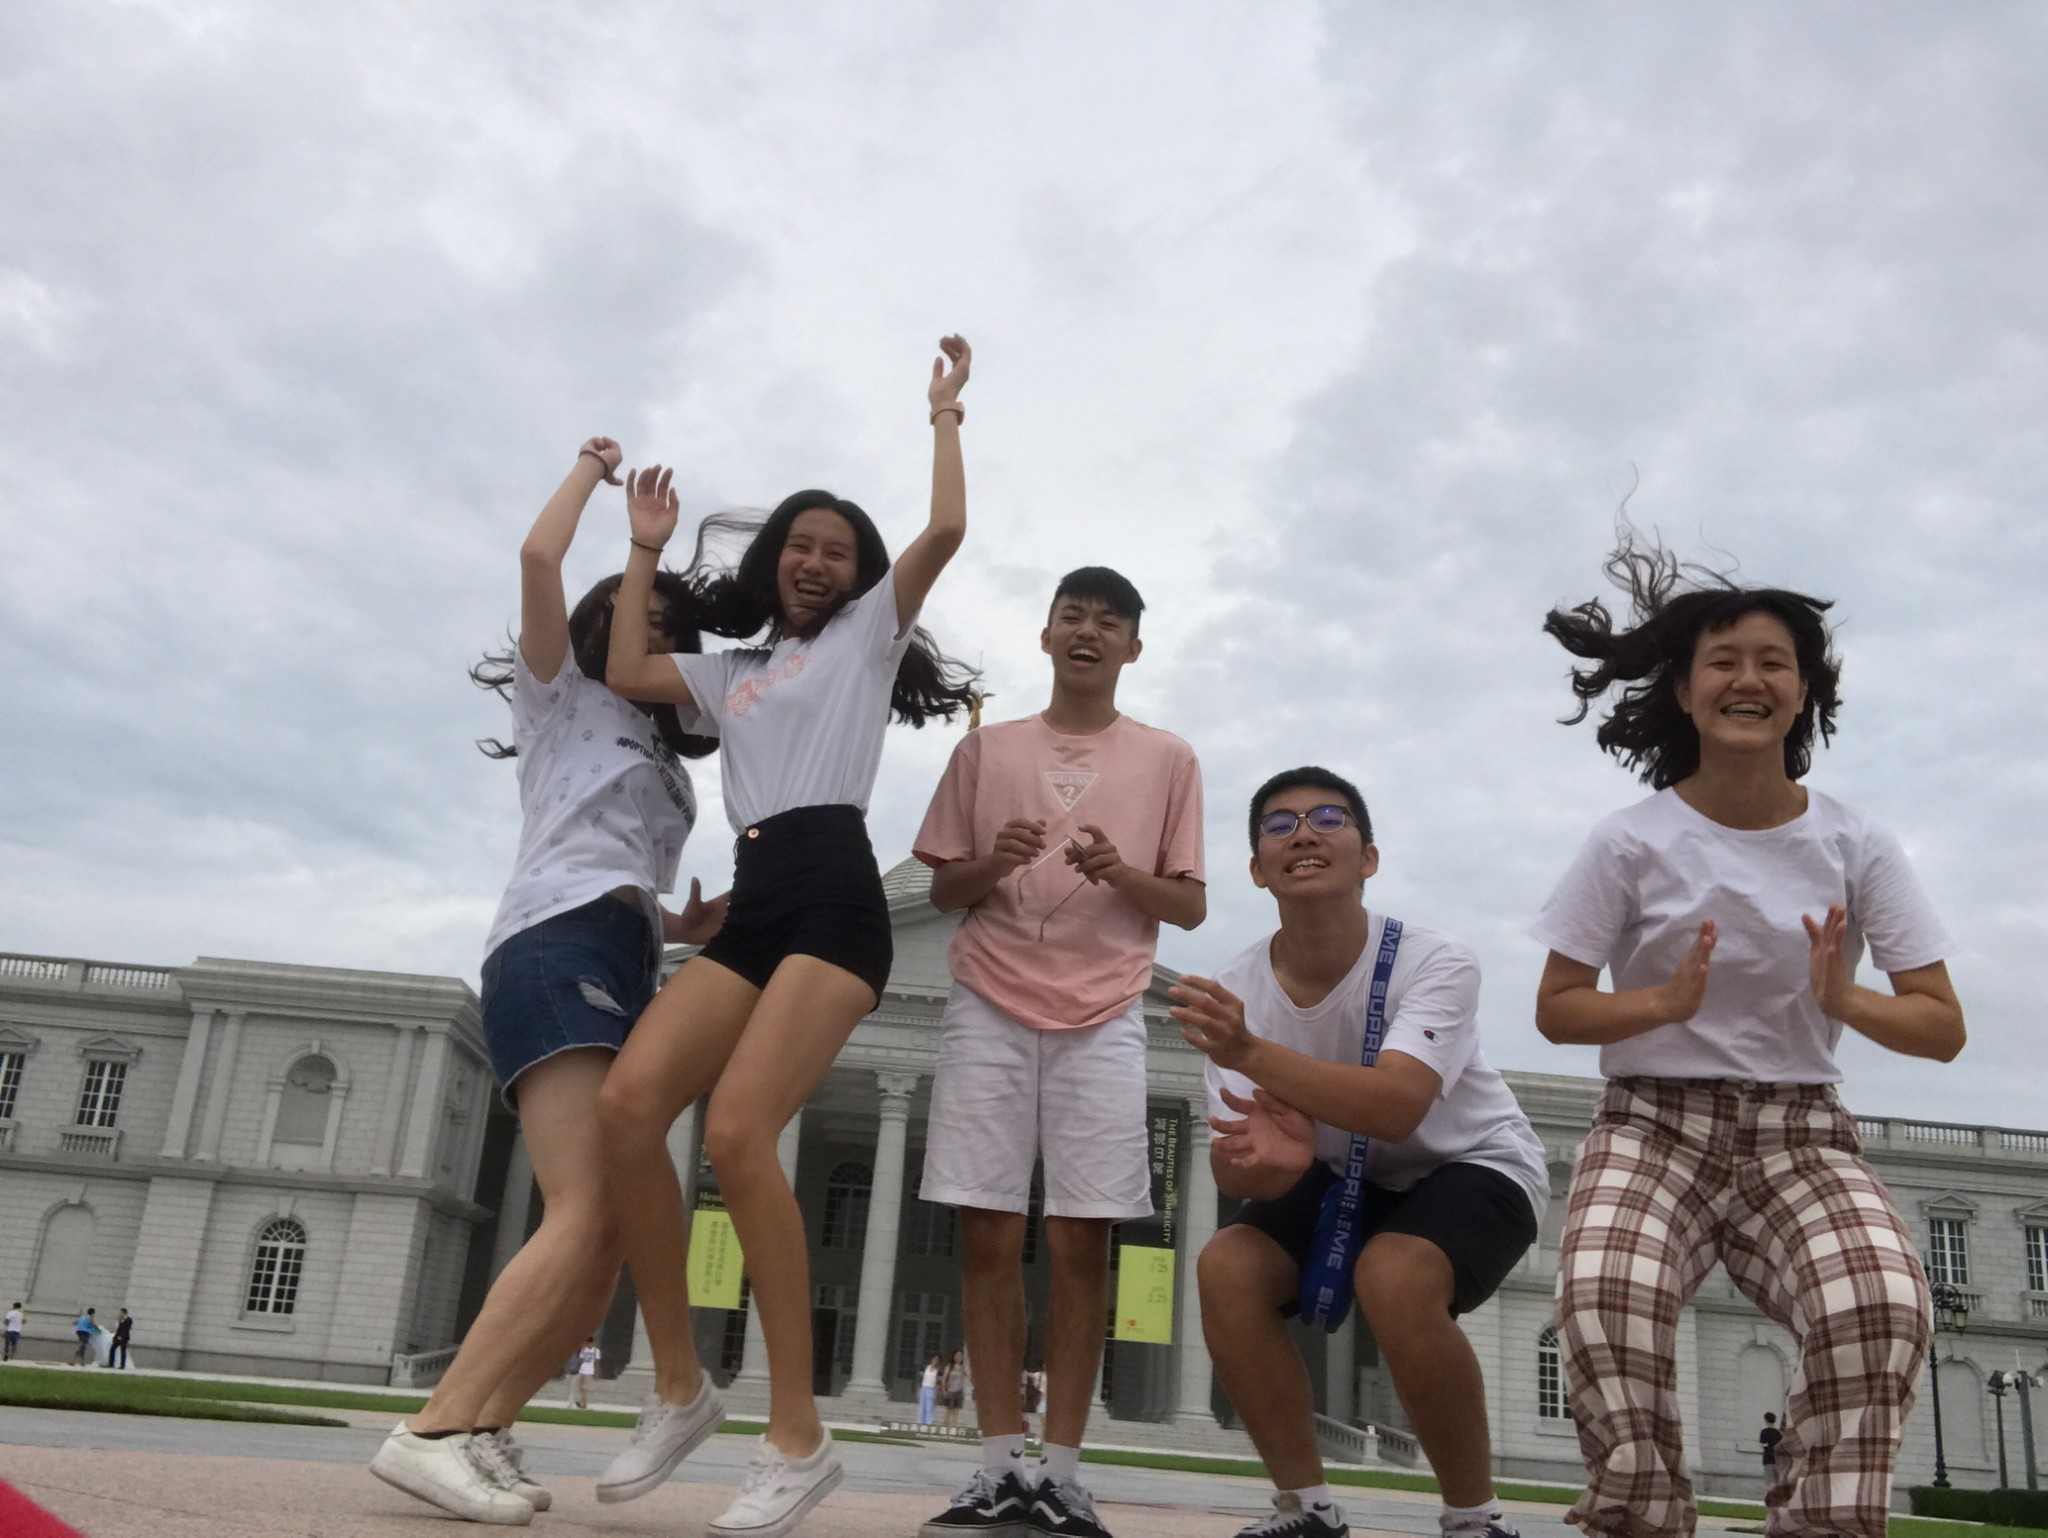people: (1581, 597, 1881, 1538), (1207, 761, 1510, 1538), (699, 482, 893, 1538), (493, 553, 693, 1532), (952, 573, 1149, 1538)
